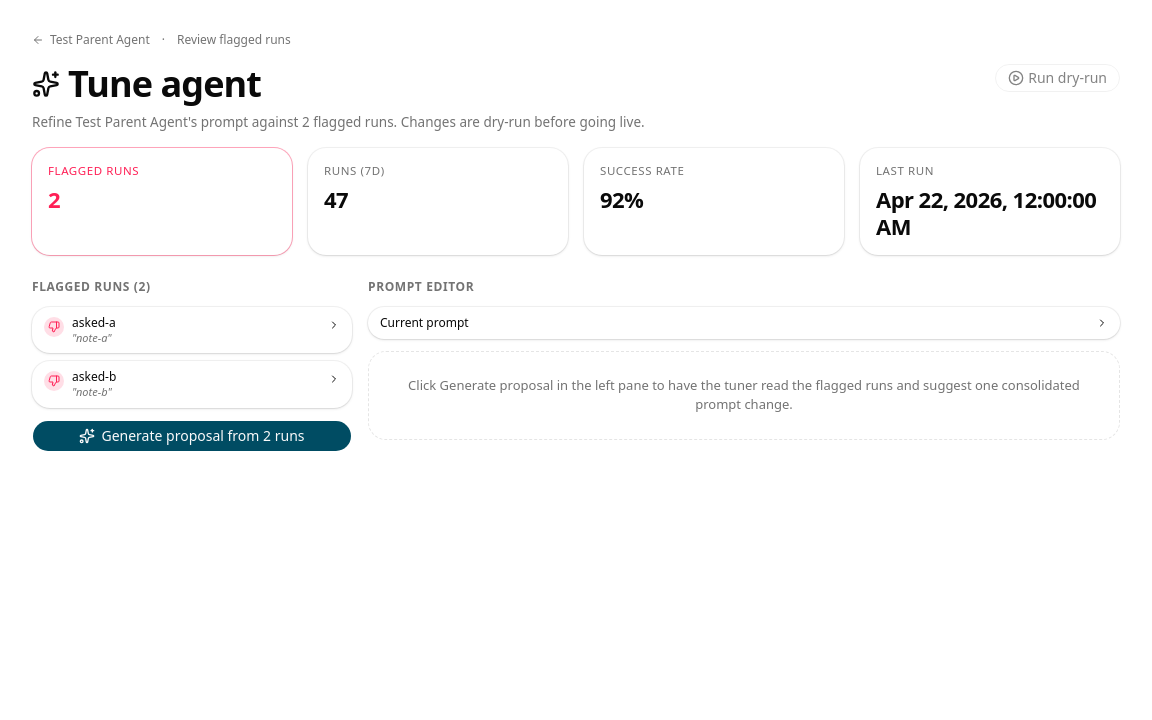
Test: AgentTuneWorkbench — generate proposal › renders the diff viewer after a proposal is generated
The image size is (1152, 720).
Click the button with test id "generate-proposal-button". click: {"x": 192, "y": 436}
box: 32,420 -> 352,452
(page scrolled)
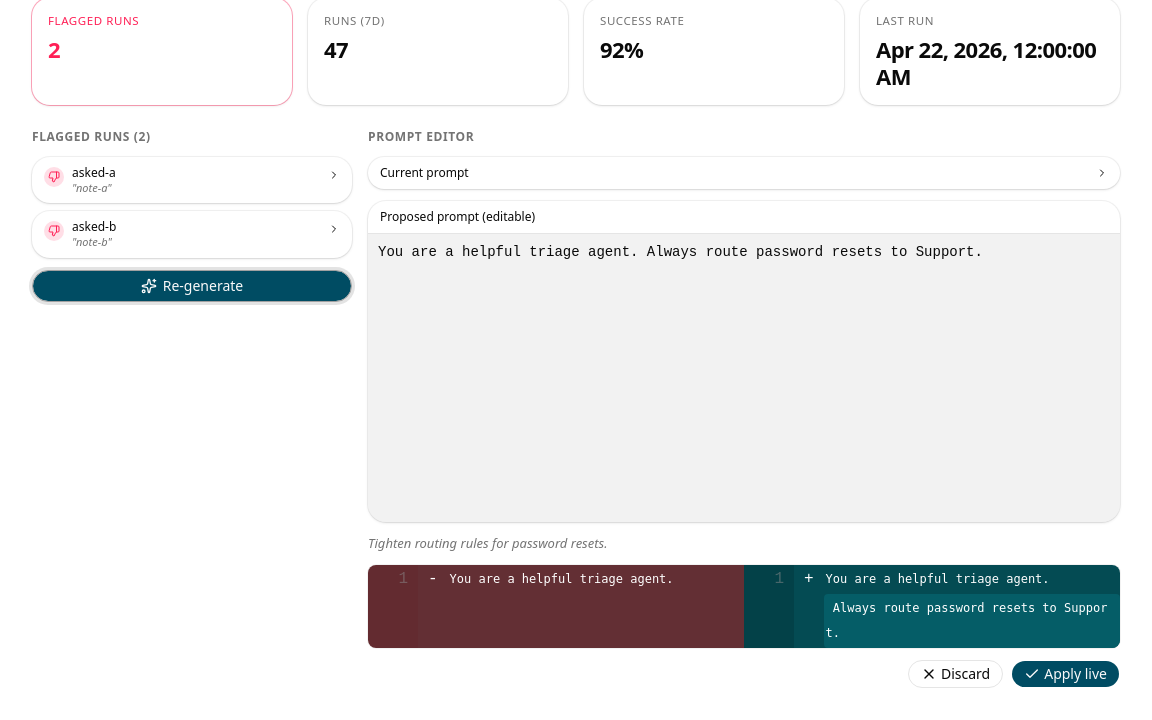
Result: the element with test id "prompt-diff-viewer" is shown at 368,565 -> 1120,648
